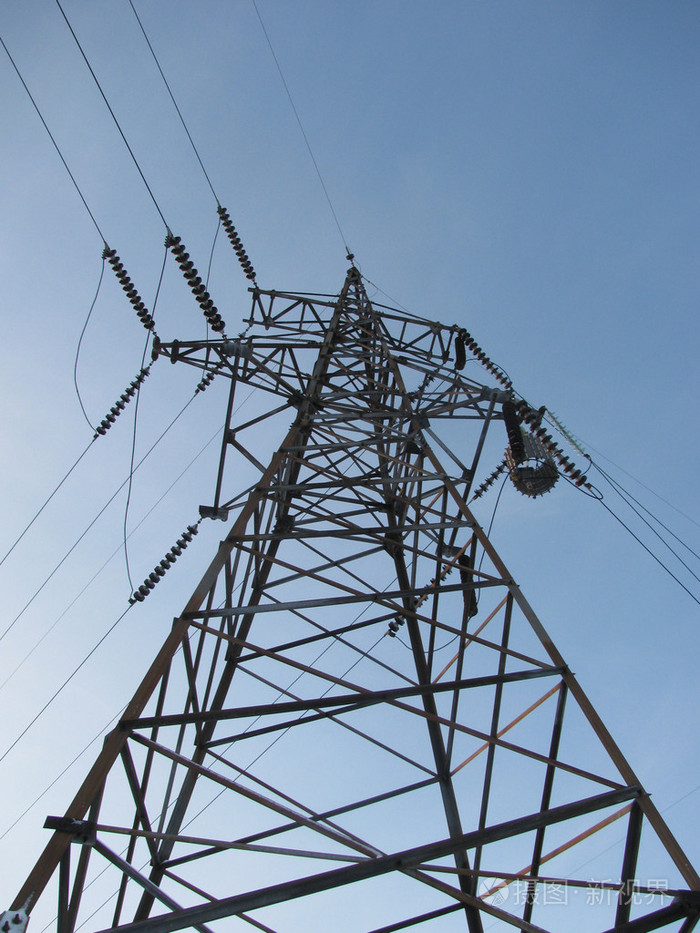insulator: (519, 399, 596, 494), (166, 231, 222, 334), (382, 562, 459, 631), (132, 526, 200, 603), (105, 247, 156, 331), (455, 326, 514, 393), (96, 368, 149, 435), (217, 206, 255, 282), (192, 356, 227, 391), (472, 459, 501, 500)
